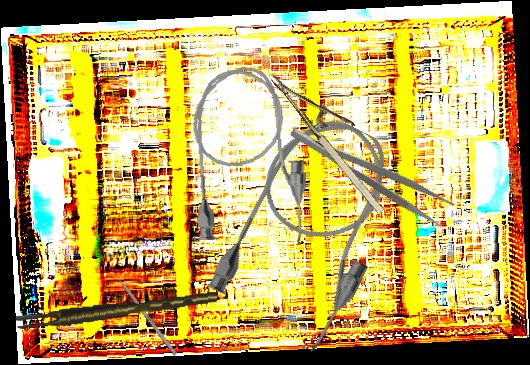Cannula: (201, 100, 421, 358), (184, 62, 312, 254)
Dressing Forceps: (287, 111, 456, 231)
Needle Holder: (267, 51, 407, 218)
Pusher: (106, 264, 178, 356)
Tissue Forceps: (14, 291, 219, 331)
